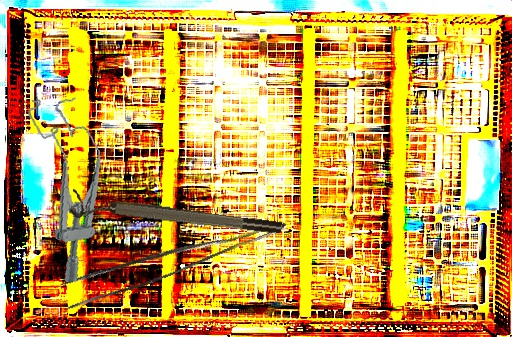Fixation Ring: (69, 188, 283, 247)
Speculum: (25, 91, 118, 285)
Tissue Forceps: (57, 197, 288, 317)
